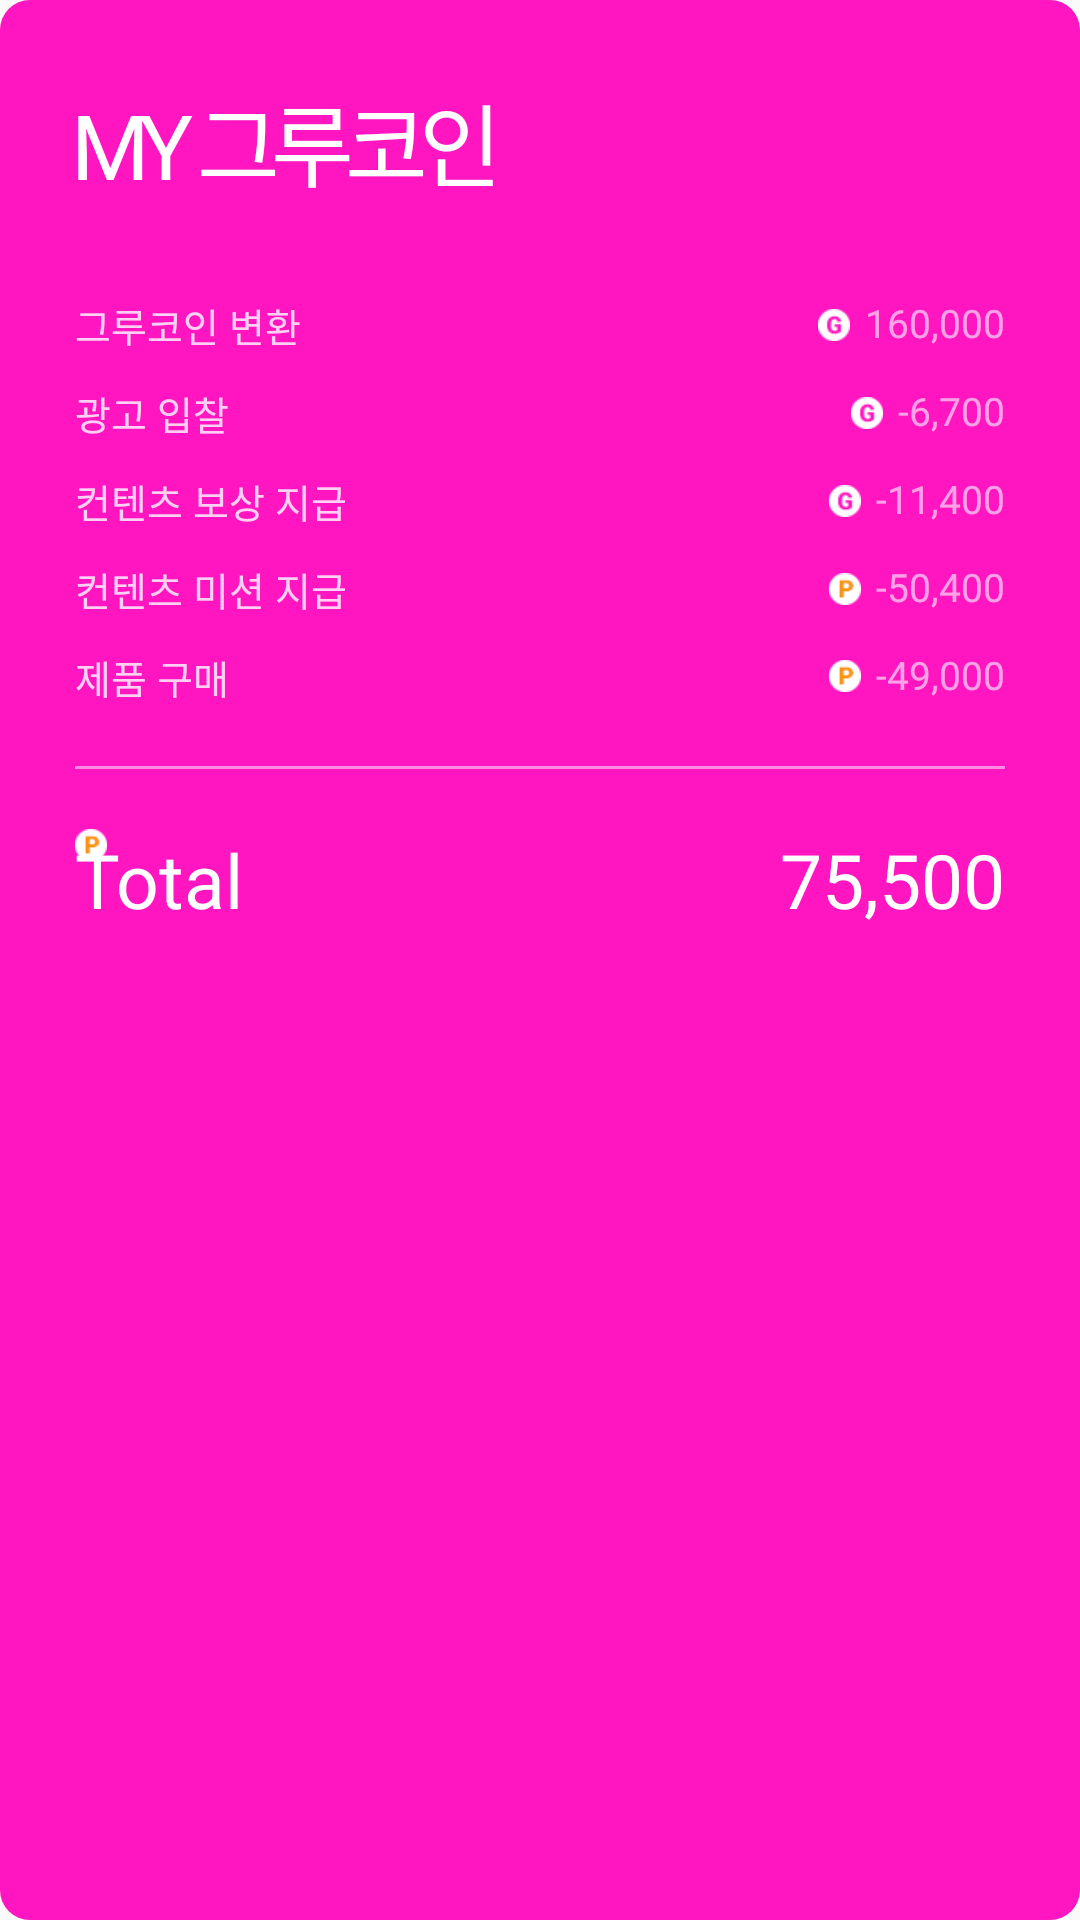

Icon click points for this 1080w x 1920h phone screenshot, format (x,y):
groocoin: (834,325), (867,413), (845,501)
